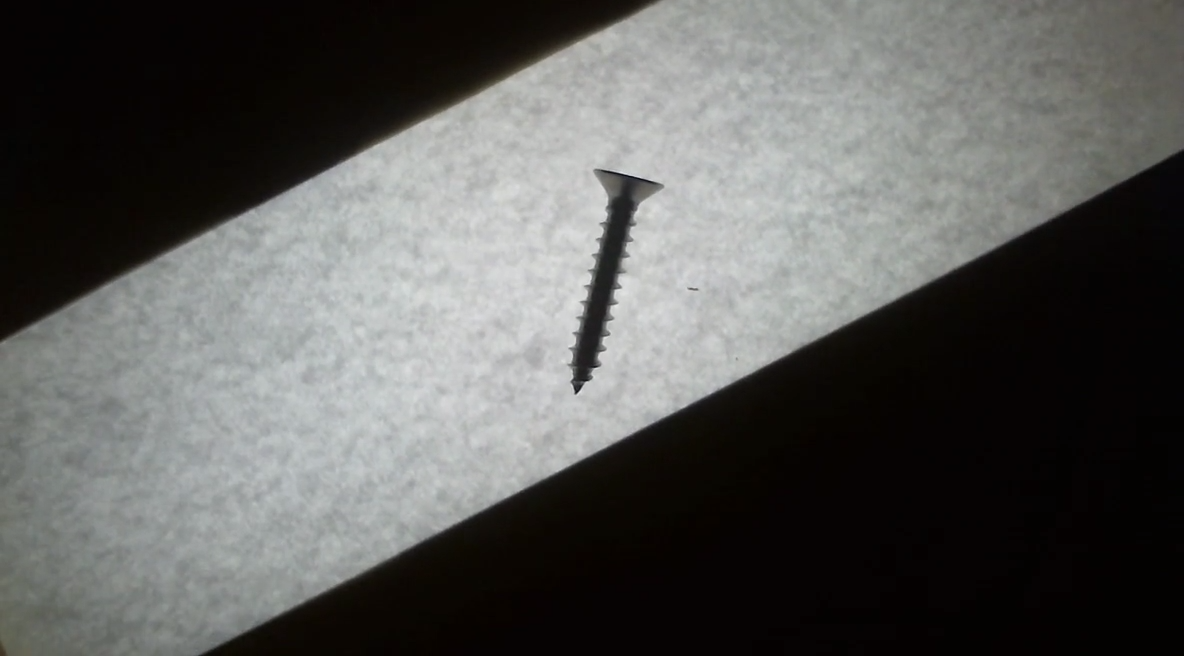S001: (555, 148, 676, 410)
